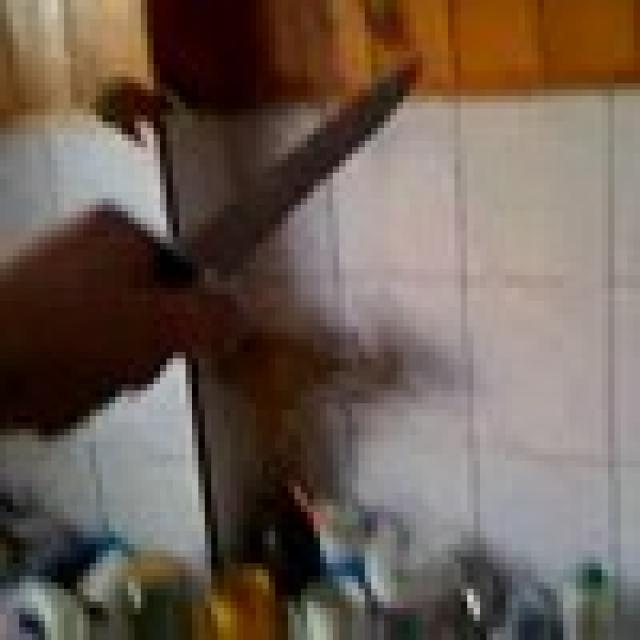Knife: (160, 51, 422, 320)
